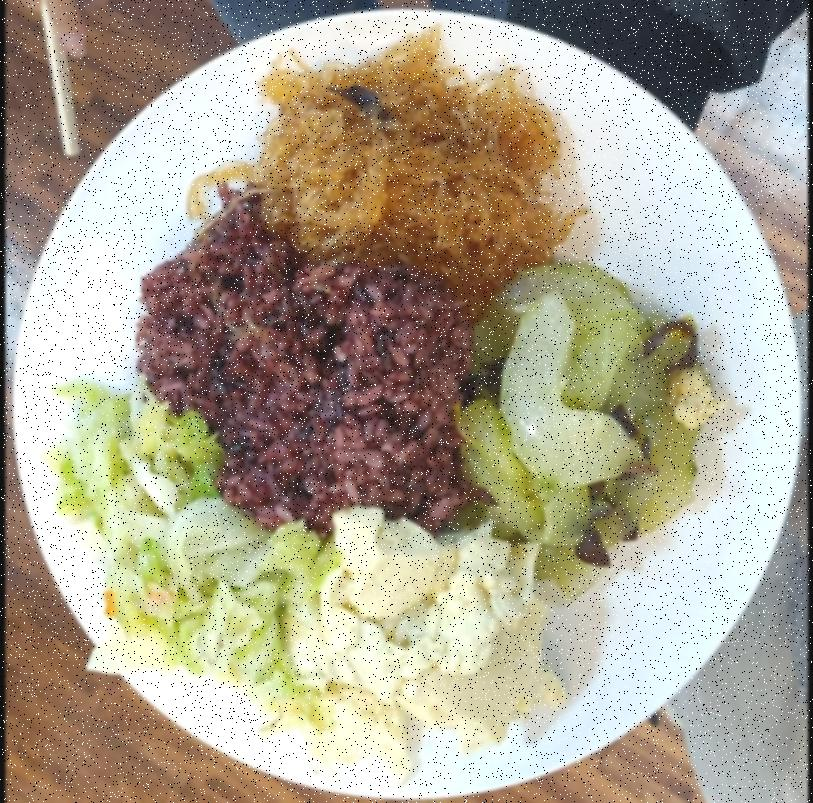big fried chicken leg: (16, 9, 806, 796)
braised fish: (137, 212, 471, 522)
braised fish fillet: (44, 378, 315, 735), (457, 259, 715, 586), (287, 501, 563, 783), (240, 58, 568, 274)
